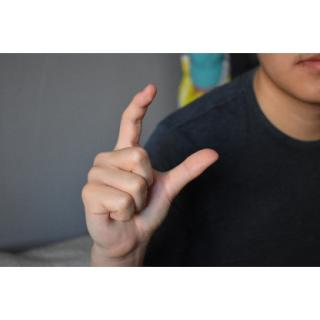DELL: (78, 78, 225, 264)
